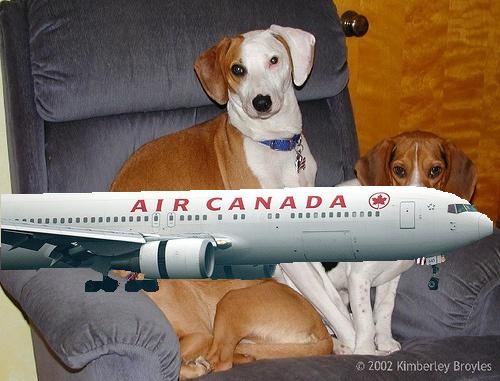tampered: (2, 184, 493, 292)
